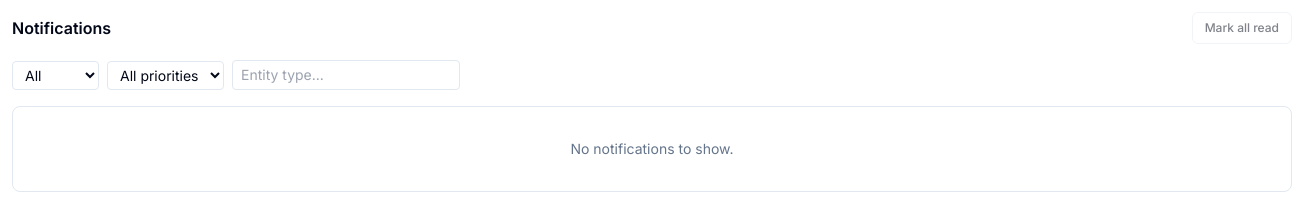
Test: NotificationPage › filters › shows clear button after setting is-read filter
Select "Unread" in the dropdown with test id "filter-is-read" at (56, 75), box [12,60,99,90]
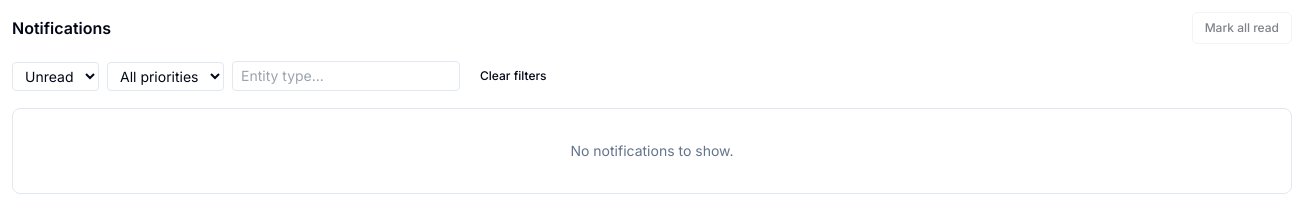
Expected: the button with test id "clear-filters-btn" is shown, [468,60,559,92]
